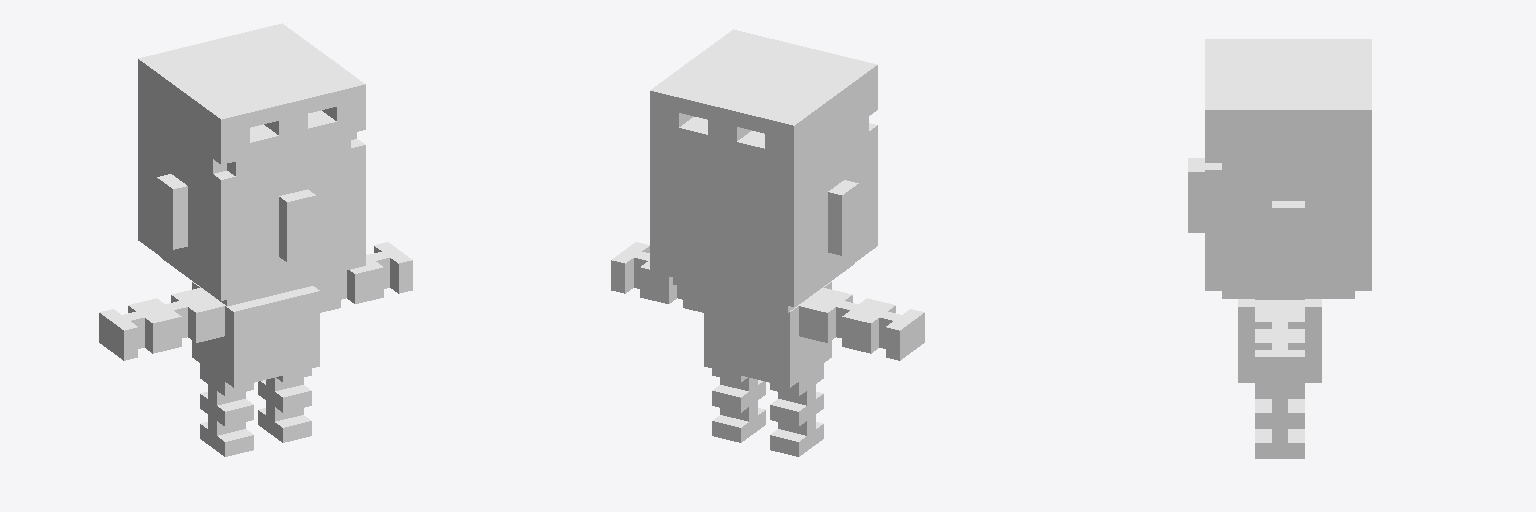
The model's file is UKchef.obj.
3 views of the same model, side by side, from view 1: azimuth 30°, elevation 25°; view 2: azimuth 150°, elevation 25°; view 3: azimuth 270°, elevation 25° (orthographic).
Visible parts, largest first — view 1: object 1; view 2: object 1; view 3: object 1.
Part boxes in pixels (bbox=[...]): object 1: bbox=[99, 23, 412, 456]; object 1: bbox=[611, 29, 924, 456]; object 1: bbox=[1188, 39, 1371, 458].
Bounding box in the file's own units: 2 × 2.4 × 1.1.